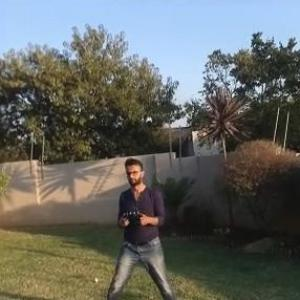follow: (102, 154, 183, 299)
